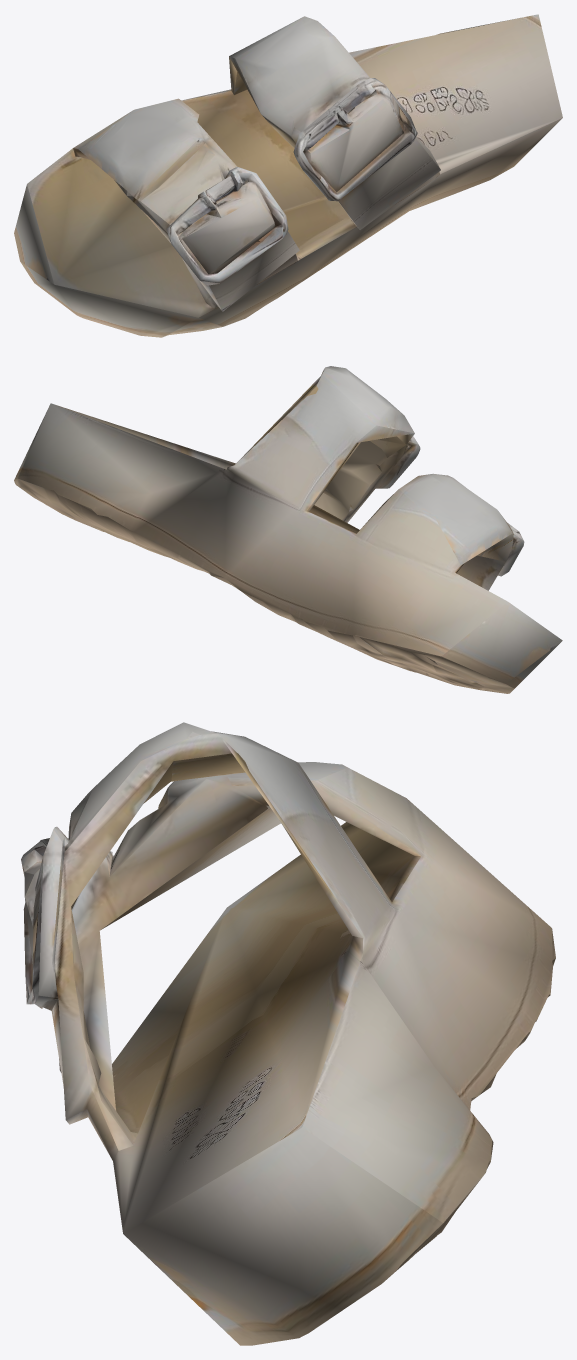
The model's file is calçados-extreme-simple.glb.
3 renders of one model, top to bottom at view 1: azimuth 30°, elevation 25°; view 2: azimuth 150°, elevation 25°; view 3: azimuth 270°, elevation 25°, orthographic. The views are drawn at different scales.
Parts seen in each view (by area): view 1: textured_mesh; view 2: textured_mesh; view 3: textured_mesh.
Part boxes in pixels (x1,y1,x2,y2): textured_mesh: [14, 14, 562, 337]; textured_mesh: [14, 366, 562, 693]; textured_mesh: [21, 722, 555, 1345].
Size of the model in its own units: 1.94 by 1.02 by 0.8845.
1 material, 1 textured.
